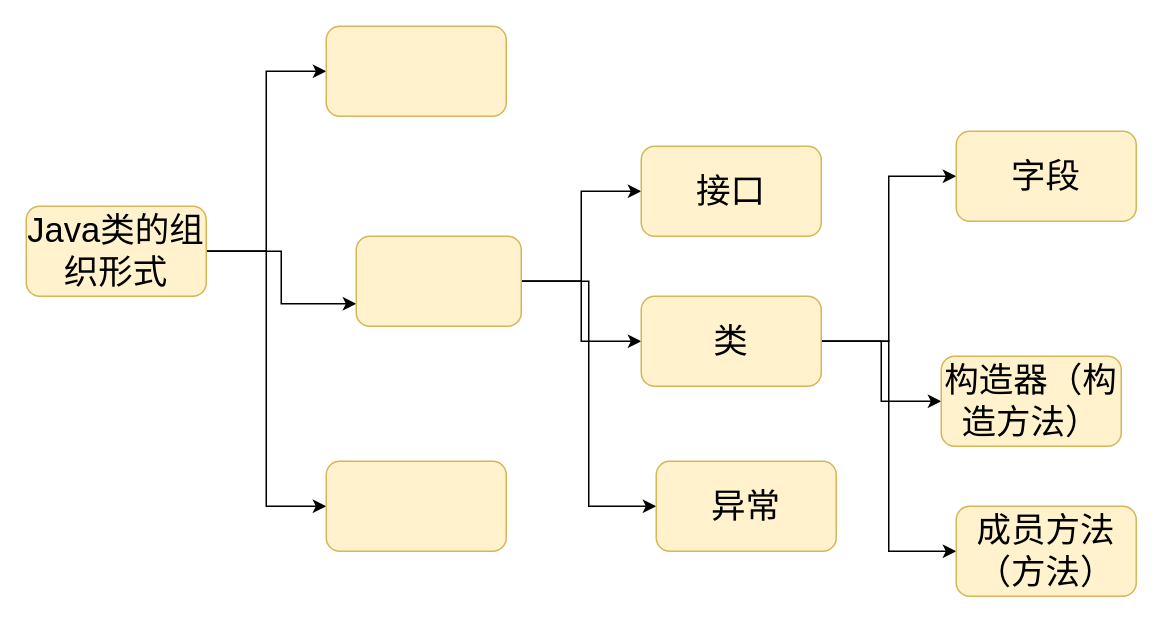
This 1163x623 diagram has some shape labels left out. The centre of each missing label's shape, as x and y in pixels:
"包1" belongs at pixel 415 70.
"包2" belongs at pixel 438 280.
"包3" belongs at pixel 415 505.
